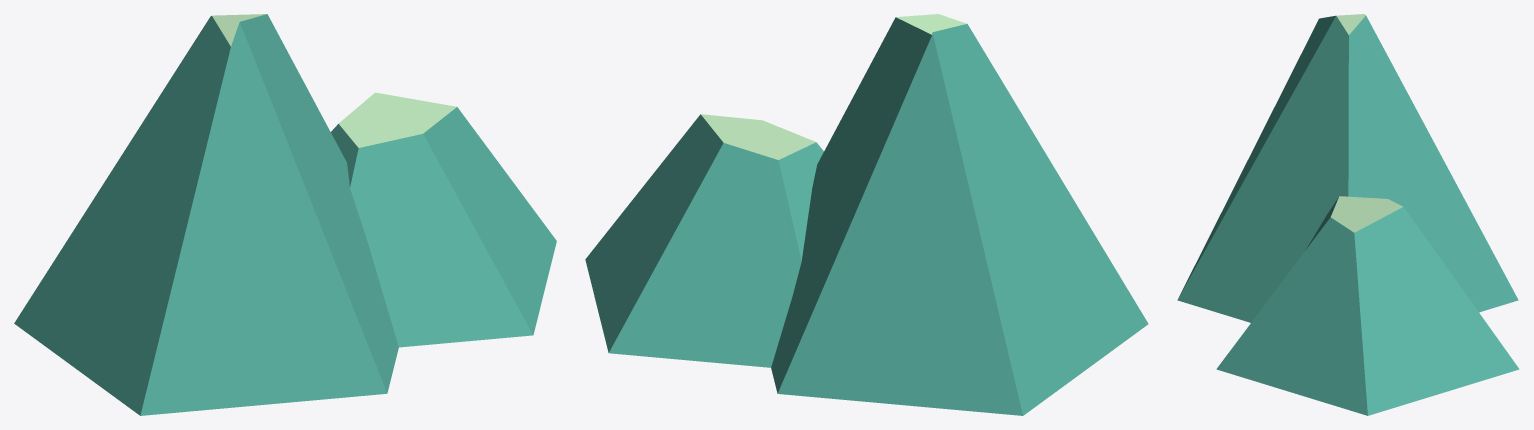
File: berg.glb
3 renders of one model, left to right at view 1: azimuth 30°, elevation 25°; view 2: azimuth 150°, elevation 25°; view 3: azimuth 270°, elevation 25°, orthographic. The views are drawn at different scales.
Visible parts, largest first — view 1: Berg; view 2: Berg; view 3: Berg.
Part boxes in pixels (x1,y1,x2,y2): Berg: [14, 14, 556, 415]; Berg: [585, 14, 1148, 415]; Berg: [1177, 14, 1519, 415].
Bounding box in the file's own units: 2.38 × 1.46 × 1.72.
